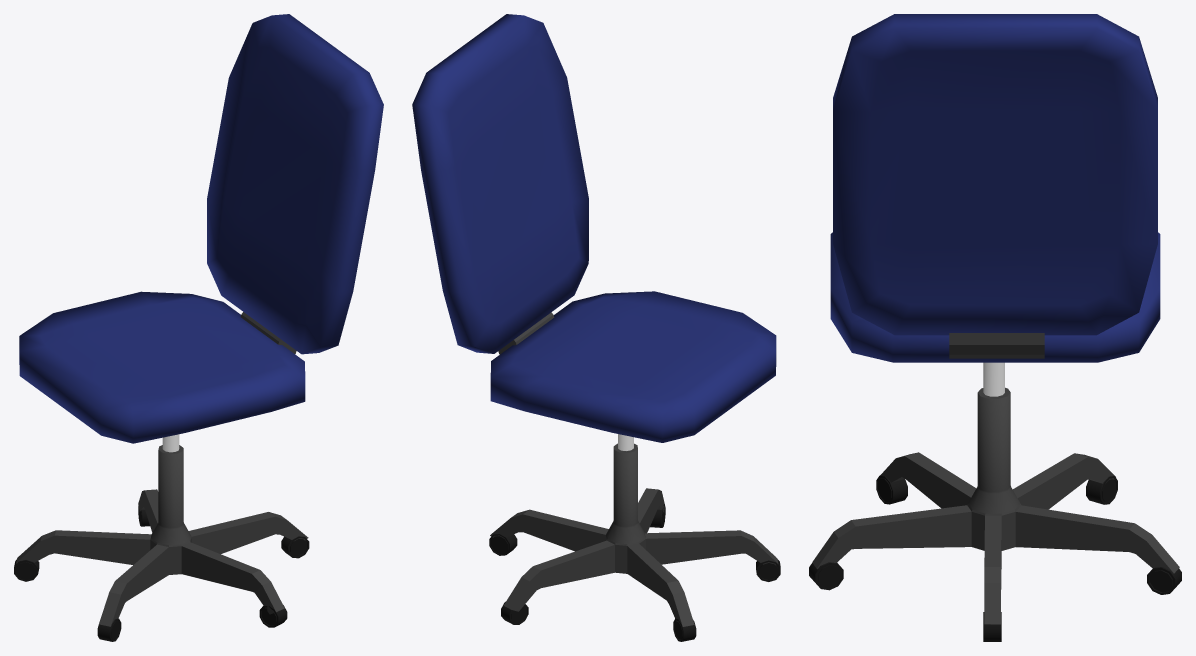
File: ComputerChairV2.fbx
3 views of the same model, side by side, from view 1: azimuth 30°, elevation 25°; view 2: azimuth 150°, elevation 25°; view 3: azimuth 270°, elevation 25° (orthographic). The views are drawn at different scales.
Parts seen in each view (by area): view 1: Back, Bottom, Base, Wheels; view 2: Back, Bottom, Base, Wheels; view 3: Back, Base, Bottom, Wheels, Cylinder.
Boxes of the visible parts, x1,y1,x2,y2 form: Back: (207,14,383,354); Bottom: (19,291,305,443); Base: (16,434,308,626); Wheels: (14,505,309,641); Back: (412,14,588,353); Bottom: (490,291,776,442); Base: (490,434,778,626); Wheels: (489,504,780,641); Back: (833,14,1157,335); Base: (812,362,1179,624); Bottom: (830,232,1160,362); Wheels: (809,475,1181,641); Cylinder: (949,333,1044,358).
Bounding box in the file's own units: 65.67 × 116 × 61.53.
